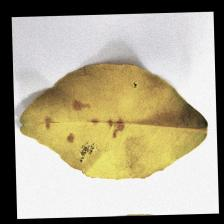black spot: (36, 88, 140, 148)
